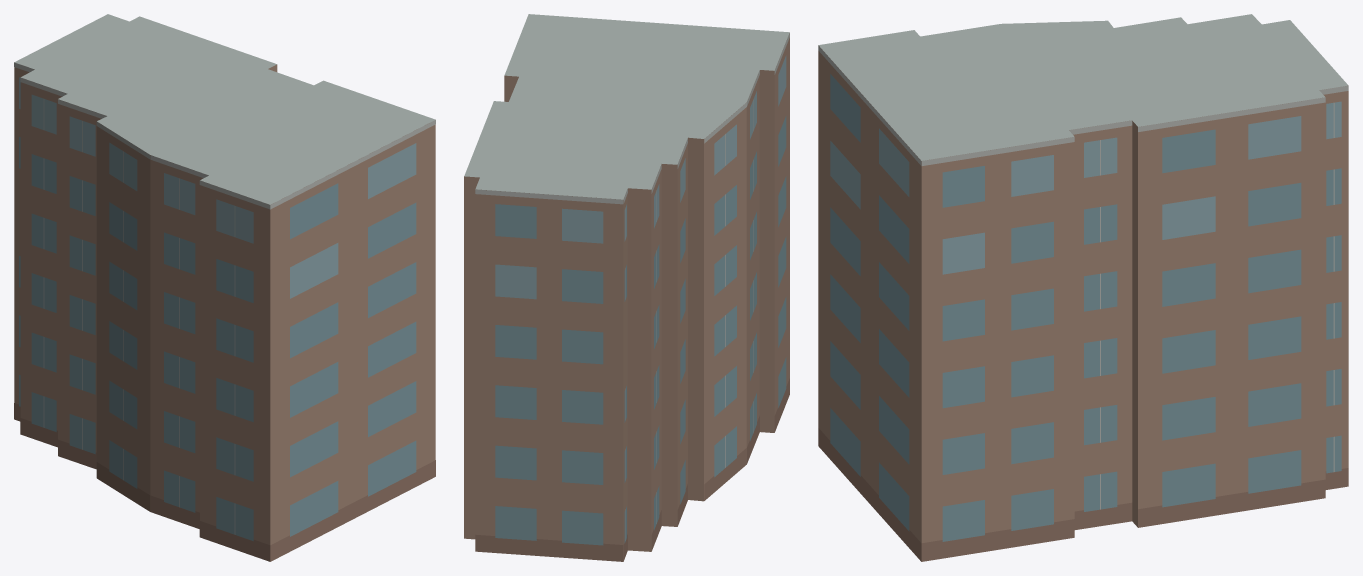
The model's file is survey-upis-32954275.glb.
3 renders of one model, left to right at view 1: azimuth 30°, elevation 25°; view 2: azimuth 150°, elevation 25°; view 3: azimuth 270°, elevation 25°, orthographic. The views are drawn at different scales.
Visible parts, largest first — view 1: survey-upis-32954275.tmp; view 2: survey-upis-32954275.tmp; view 3: survey-upis-32954275.tmp.
Boxes of the visible parts, box(x1,y1,x2,y2) form: survey-upis-32954275.tmp: box(14, 14, 435, 561); survey-upis-32954275.tmp: box(464, 14, 789, 561); survey-upis-32954275.tmp: box(818, 14, 1348, 561).
Bounding box in the file's own units: 14.63 × 18.6 × 22.31.
